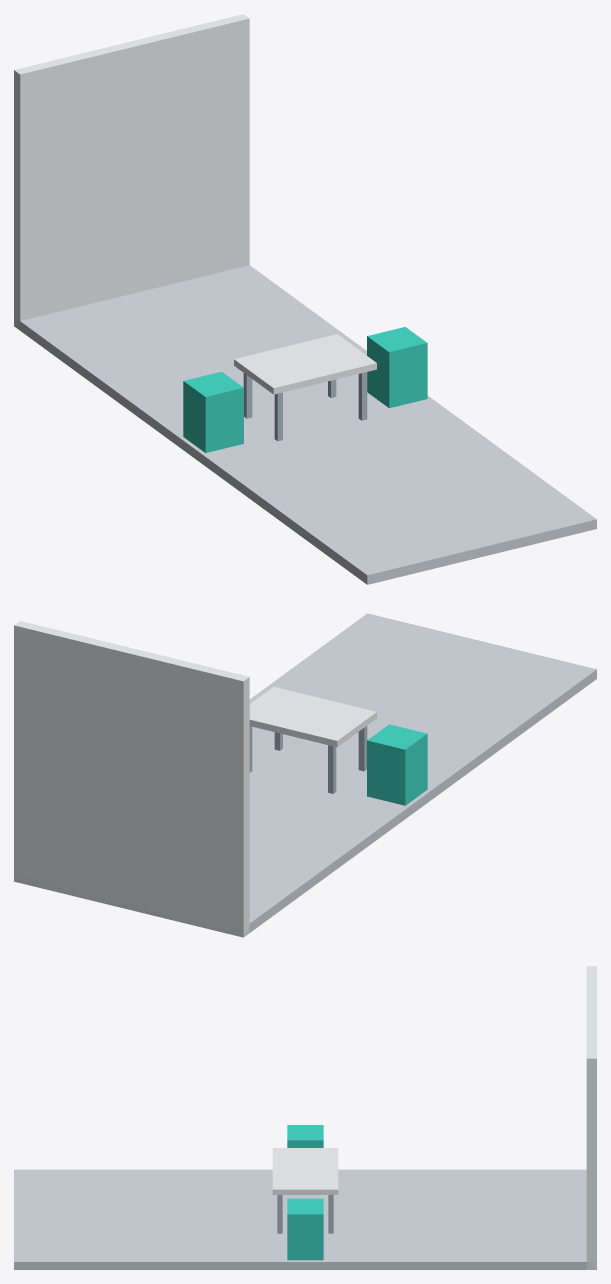
The picture shows the model from 3 angles, top to bottom: view 1: azimuth 30°, elevation 25°; view 2: azimuth 150°, elevation 25°; view 3: azimuth 270°, elevation 25°; orthographic projection. The views are drawn at different scales.
Parts seen in each view (by area): view 1: Exhibition Booth Concept; view 2: Exhibition Booth Concept; view 3: Exhibition Booth Concept.
Part boxes in pixels (x1,y1,x2,y2): Exhibition Booth Concept: (14,14,596,584); Exhibition Booth Concept: (14,613,596,937); Exhibition Booth Concept: (14,966,596,1269).
Bounding box in the file's own units: 3 × 3.2 × 8.
